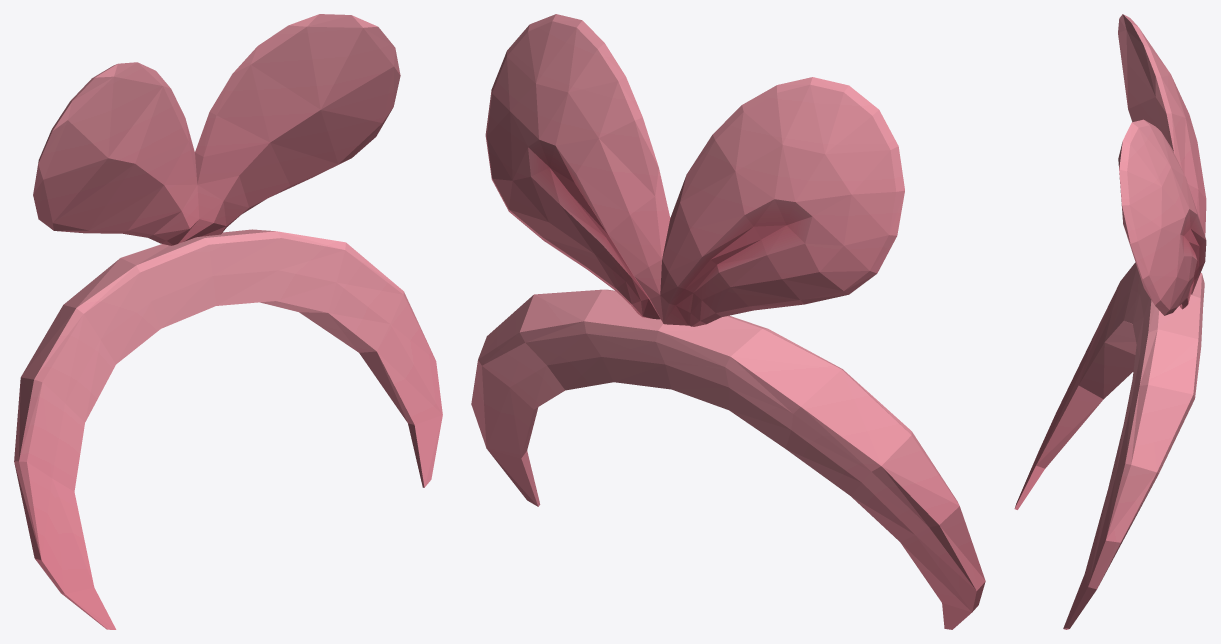
The model's file is CharSkyKid_Horn_KizunaAi.glb.
3 renders of one model, left to right at view 1: azimuth 30°, elevation 25°; view 2: azimuth 150°, elevation 25°; view 3: azimuth 270°, elevation 25°, orthographic. The views are drawn at different scales.
Visible parts, largest first — view 1: CharSkyKid_Horn_KizunaAi; view 2: CharSkyKid_Horn_KizunaAi; view 3: CharSkyKid_Horn_KizunaAi.
Boxes of the visible parts, x1,y1,x2,y2 form: CharSkyKid_Horn_KizunaAi: [14, 14, 442, 629]; CharSkyKid_Horn_KizunaAi: [471, 14, 985, 629]; CharSkyKid_Horn_KizunaAi: [1014, 14, 1206, 629].
Size of the model in its own units: 2.41 by 2.81 by 0.9472.
Materials: 1 (1 with a texture image).
